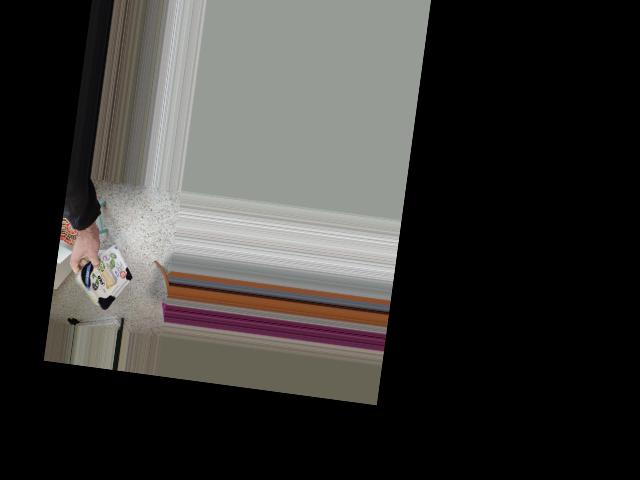cheese: (60, 249, 141, 311)
